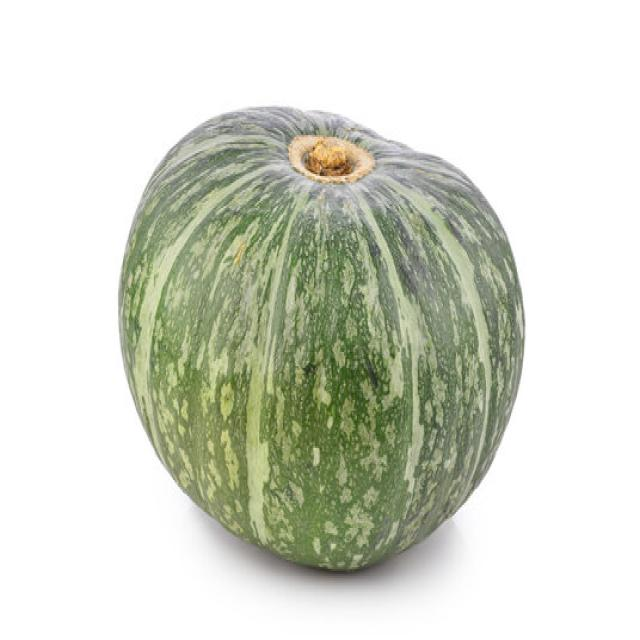Pumpkin: (126, 95, 534, 565)
